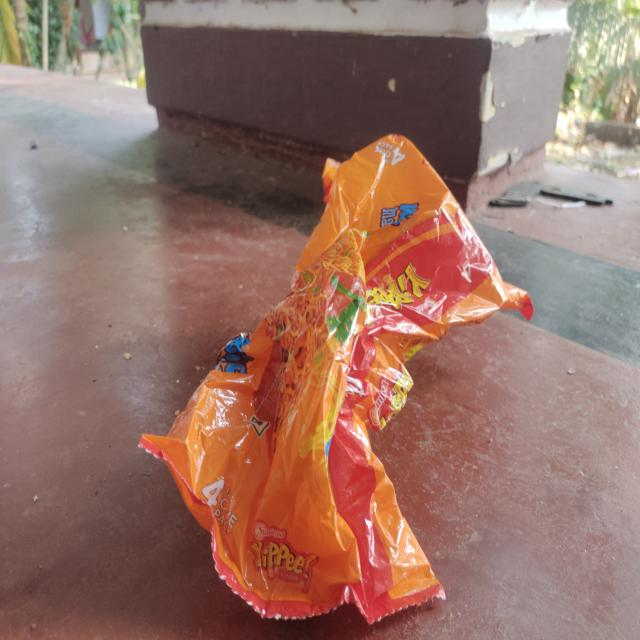plastic: (141, 130, 535, 625)
